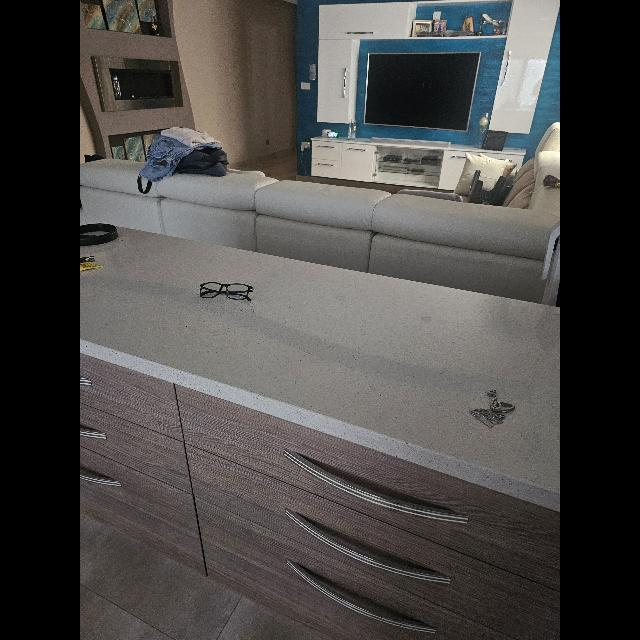glasses: (199, 282, 253, 302)
